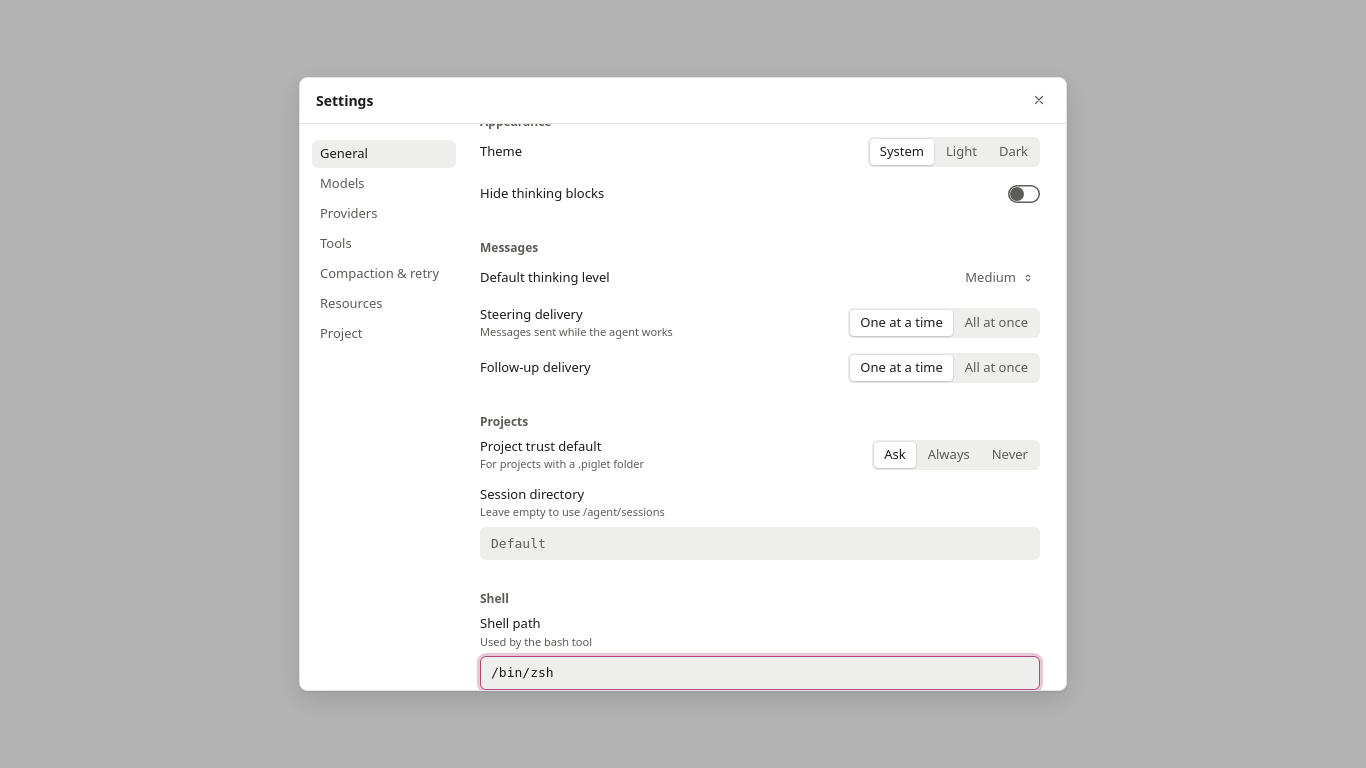
Settings controls › reverts an edited field on Esc and keeps Settings open
(page scrolled)
Replace the text in the field labelled "Shell path" with "/bin/fish" at (760,673), box [480,656,1040,690]
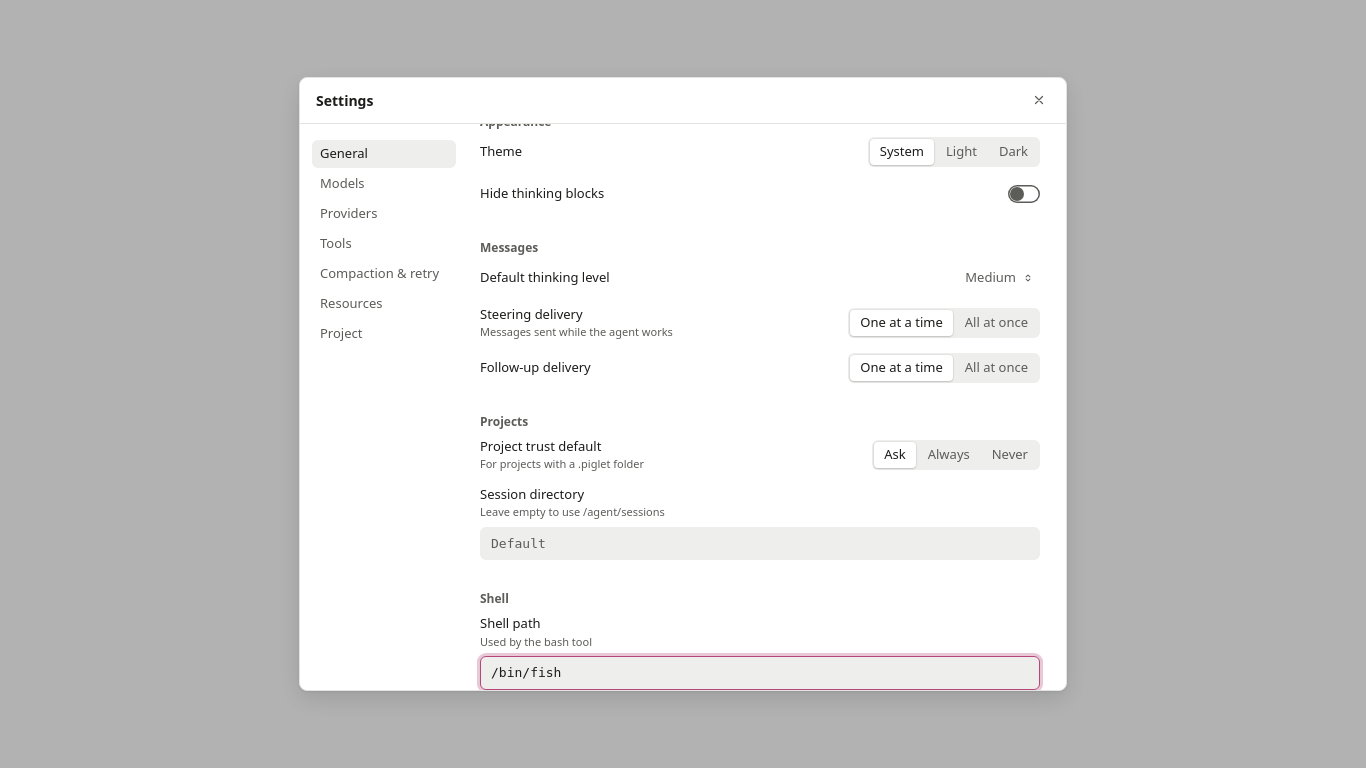
Press Escape in the field labelled "Shell path", box [480,656,1040,690]
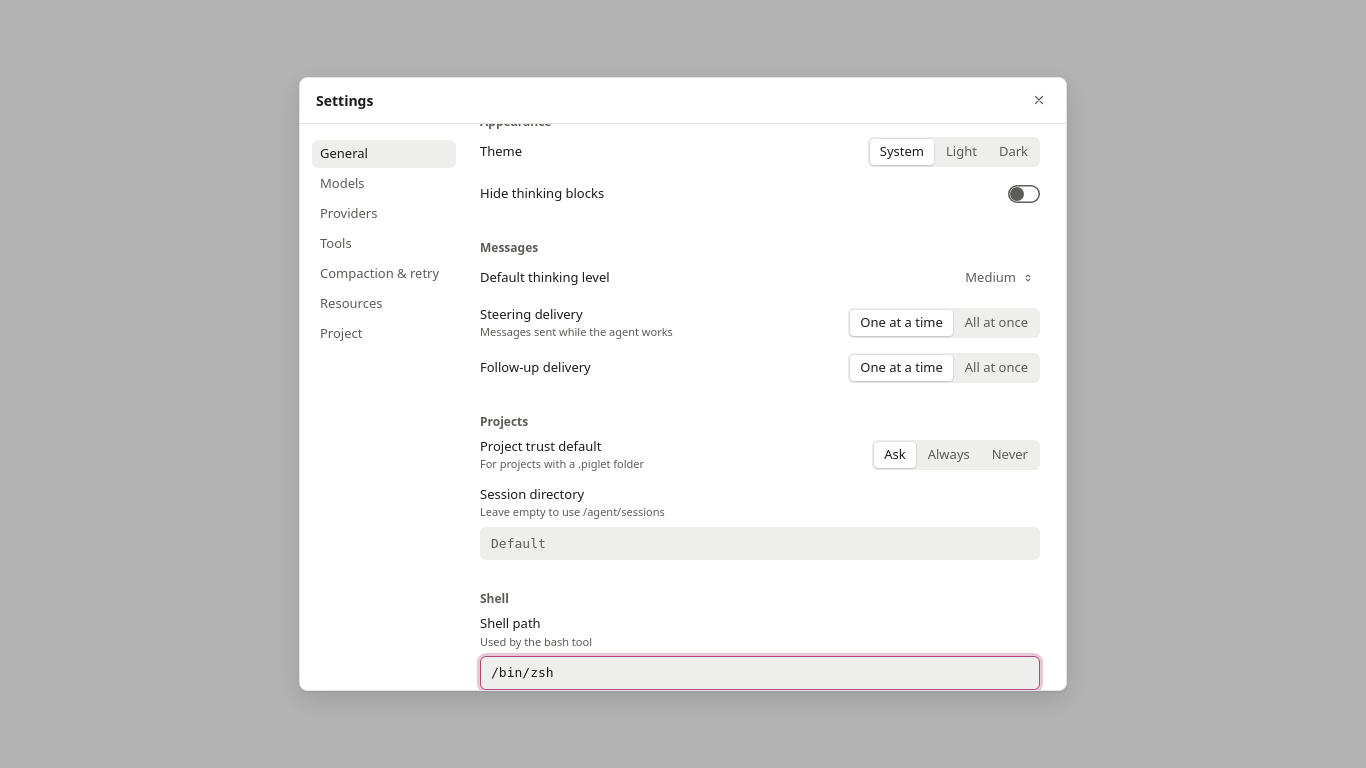
Result: the field labelled "Shell path" holds "/bin/zsh" at [480,656,1040,690]
